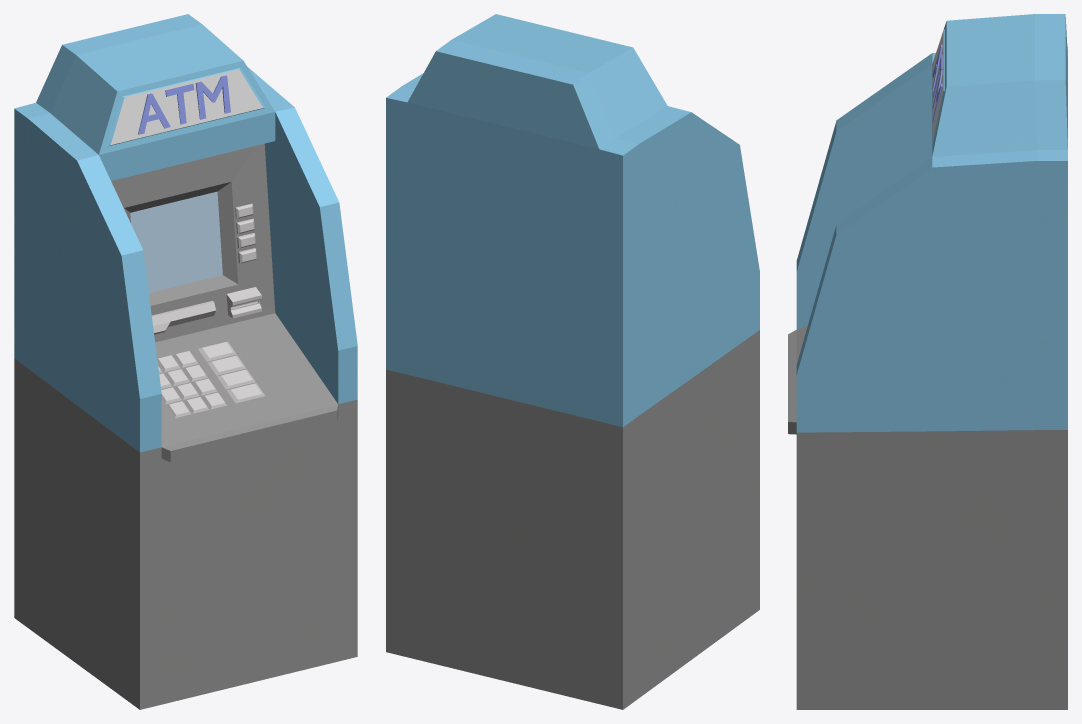
File: atm.glb
3 renders of one model, left to right at view 1: azimuth 30°, elevation 25°; view 2: azimuth 150°, elevation 25°; view 3: azimuth 270°, elevation 25°, orthographic. The views are drawn at different scales.
Visible parts, largest first — view 1: ATM; view 2: ATM; view 3: ATM.
Part boxes in pixels (<box>): ATM: <box>14,14,357,709</box>; ATM: <box>386,14,759,709</box>; ATM: <box>788,14,1067,709</box>.
Size of the model in its own units: 0.2217 by 0.5469 by 0.2288.
1 material, 1 textured.
